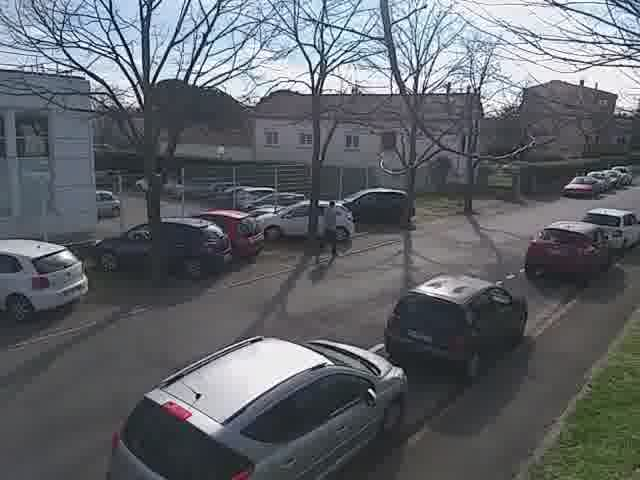persona: (312, 195, 345, 262)
